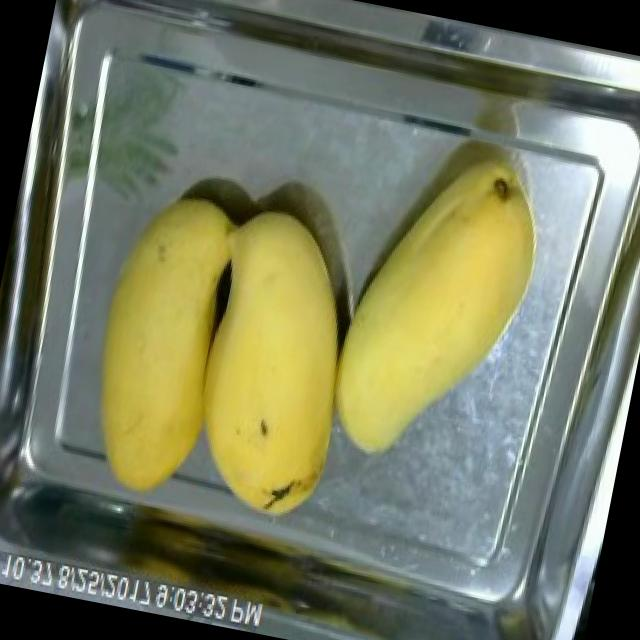fruit: (306, 126, 564, 498), (164, 186, 381, 534), (61, 165, 258, 510)
